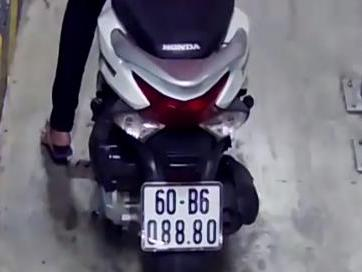lisencen: (141, 181, 225, 252)
